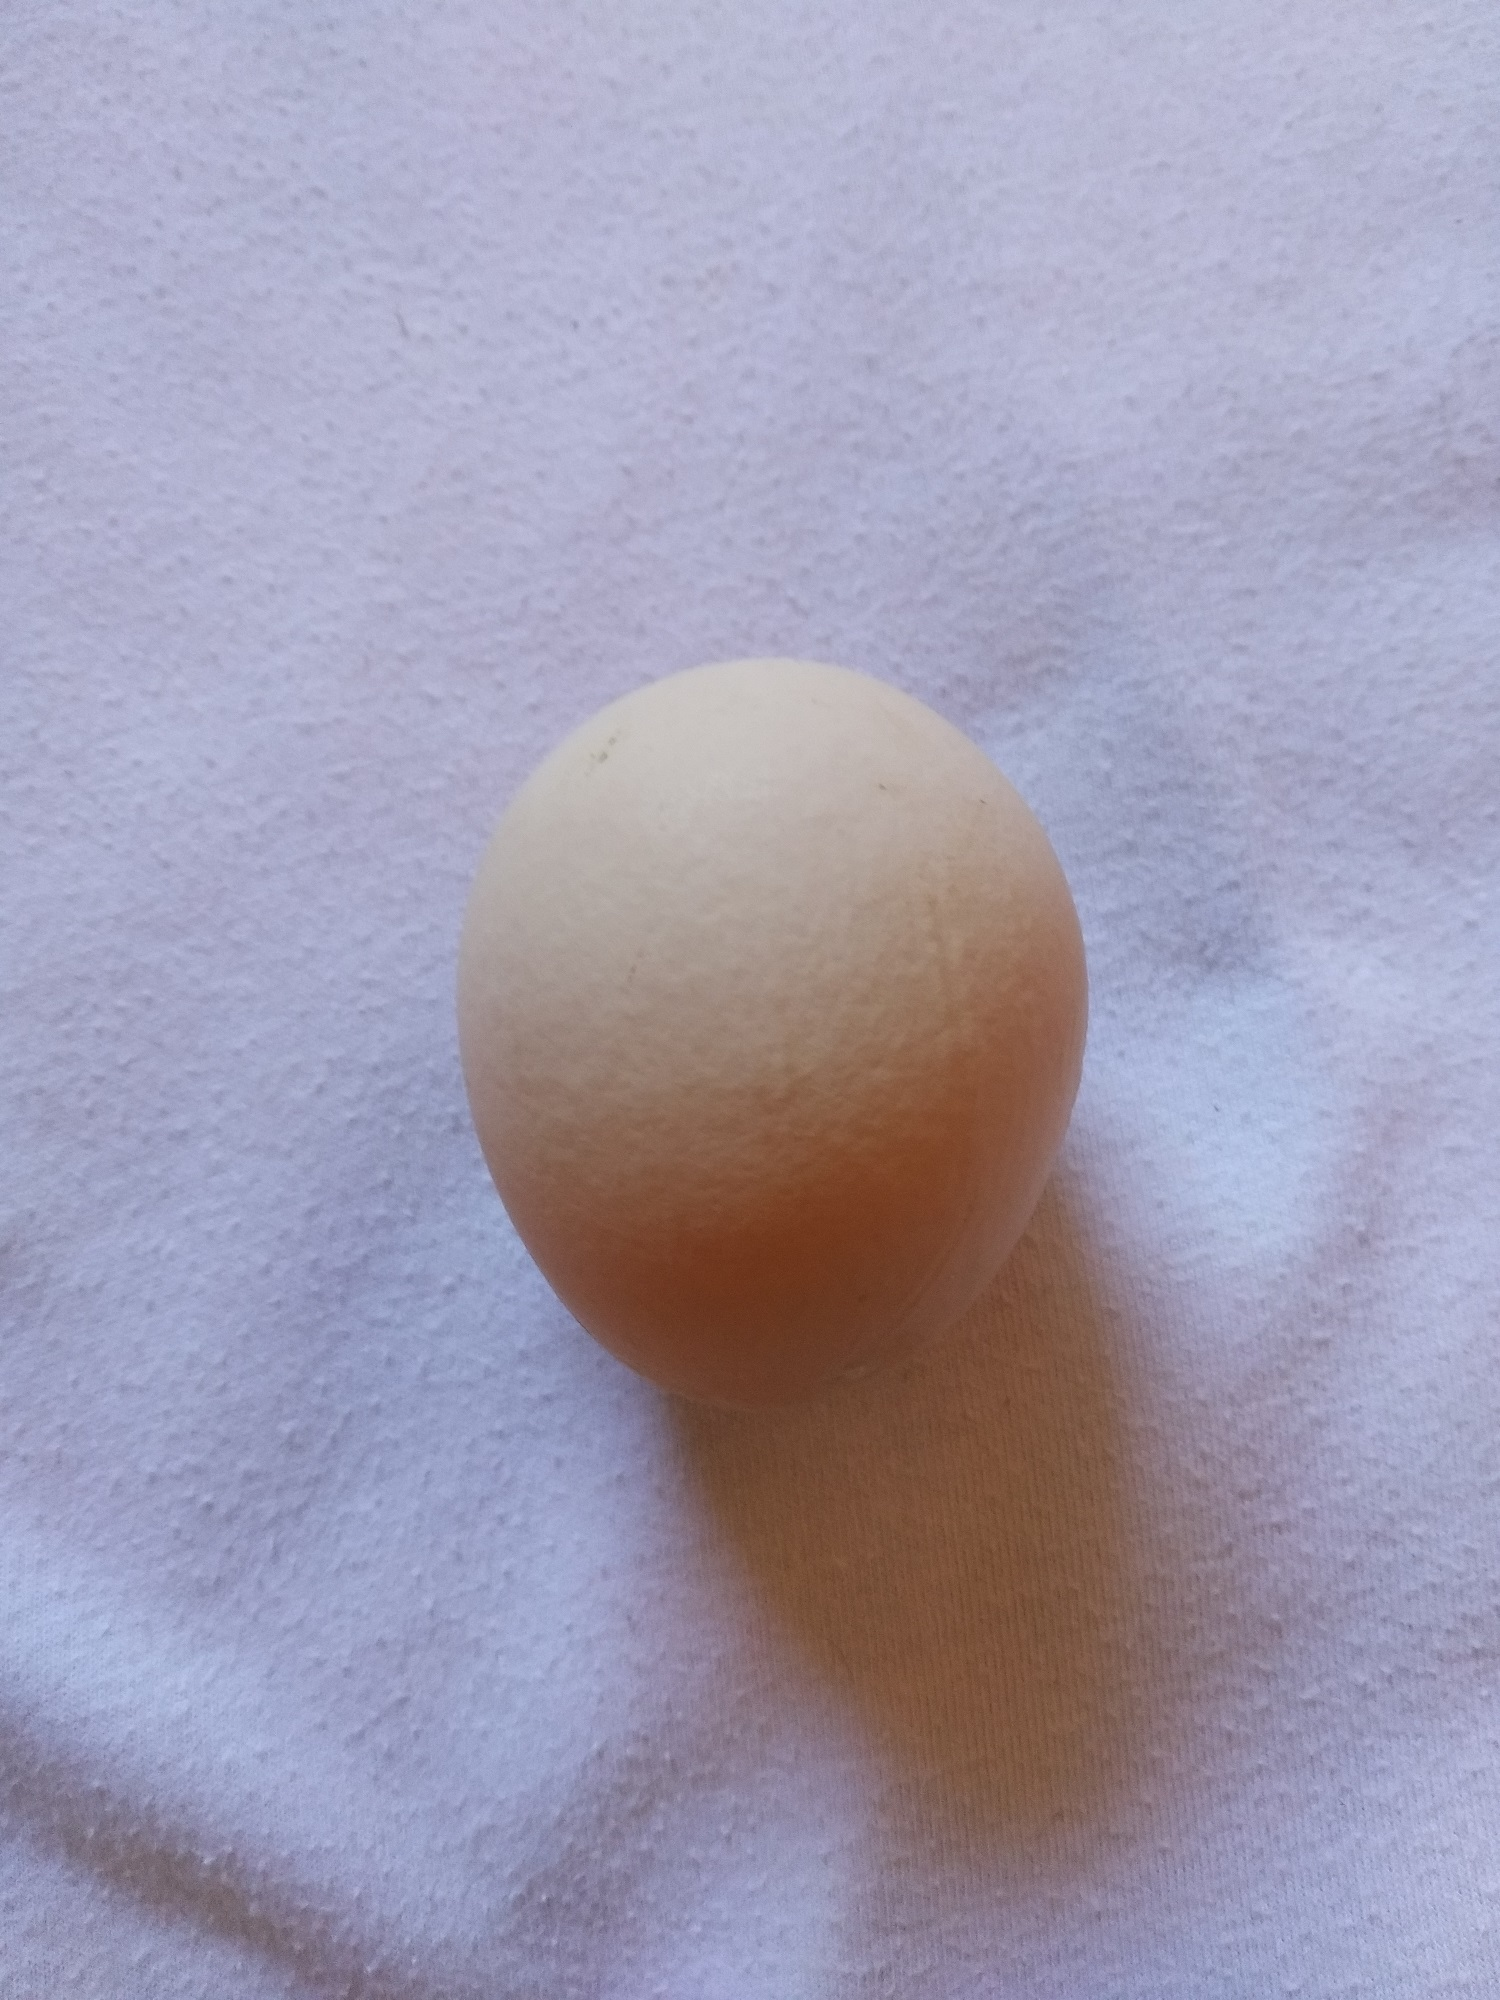Female: (444, 652, 1093, 1428)
